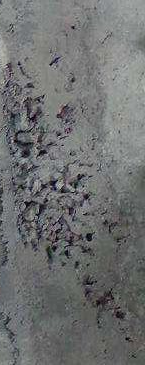Spalling: (1, 61, 127, 330)
